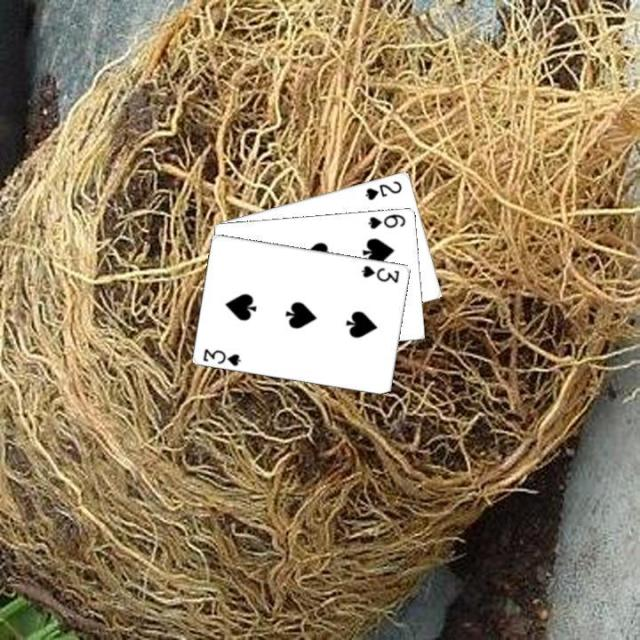2S: (362, 177, 404, 202)
3S: (358, 262, 402, 284), (199, 345, 243, 367)
6S: (365, 210, 407, 230)
